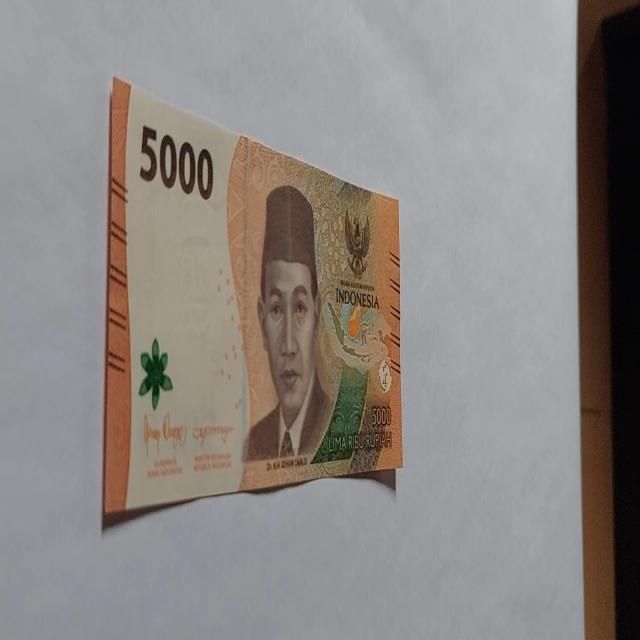lima ribu rupiah: (100, 79, 405, 533), (240, 183, 336, 467)
